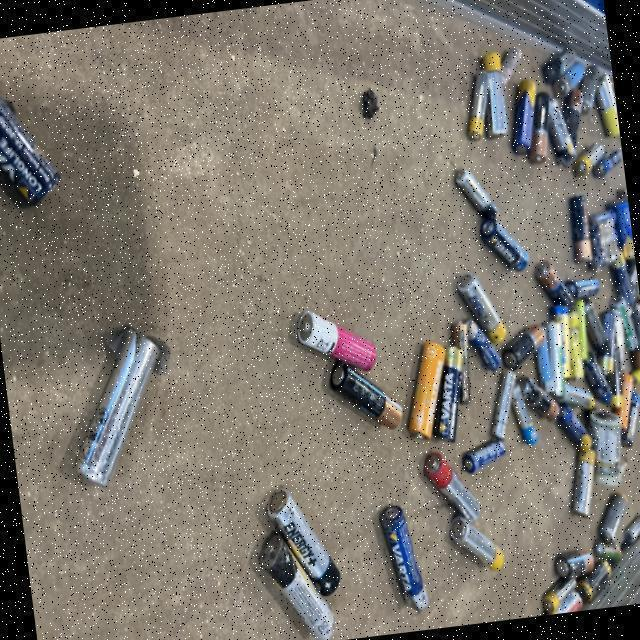AA: (68, 326, 162, 491), (262, 486, 344, 599), (254, 528, 337, 639), (292, 307, 380, 377), (377, 502, 432, 614), (328, 360, 406, 434), (421, 450, 488, 524), (407, 337, 448, 445)
